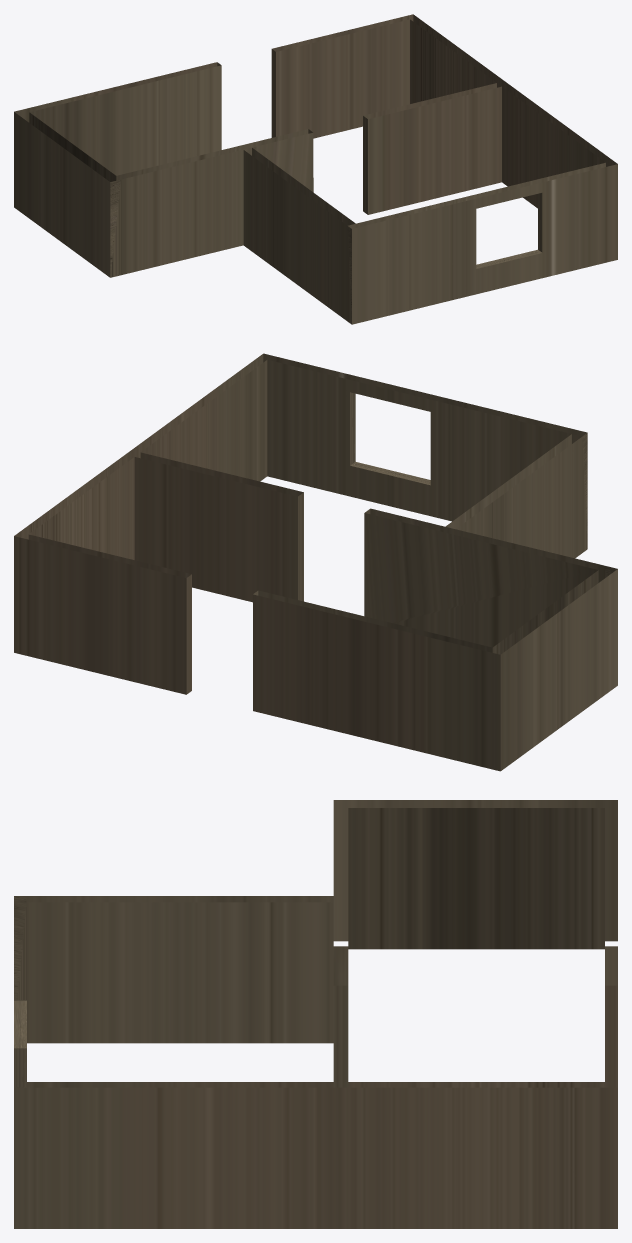
File: walls1.fbx
The picture shows the model from 3 angles, top to bottom: view 1: azimuth 30°, elevation 25°; view 2: azimuth 150°, elevation 25°; view 3: azimuth 270°, elevation 25°; orthographic projection. The views are drawn at different scales.
Visible parts, largest first — view 1: Cube, Cube.012, Cube.002, Cube.011, Cube.001, Cube.006, Cube.004, Cube.005, Cube.007, Cube.003, Cube.008; view 2: Cube, Cube.004, Cube.003, Cube.010, Cube.008, Cube.011, Cube.001, Cube.009, Cube.005, Cube.007, Cube.012, Cube.002; view 3: Cube, Cube.007, Cube.005, Cube.011, Cube.001.
Part boxes in pixels (box(x1,y1,x2,y2)): Cube: box(14, 14, 617, 324); Cube.012: box(368, 86, 501, 214); Cube.002: box(276, 19, 409, 138); Cube.011: box(502, 87, 605, 208); Cube.001: box(410, 19, 496, 103); Cube.006: box(252, 133, 313, 192); Cube.004: box(116, 129, 308, 180); Cube.005: box(29, 112, 116, 181); Cube.007: box(252, 148, 355, 225); Cube.003: box(363, 83, 496, 119); Cube.008: box(356, 195, 471, 227); Cube: box(14, 353, 617, 771); Cube.004: box(364, 513, 597, 647); Cube.003: box(134, 457, 297, 602); Cube.010: box(267, 360, 349, 496); Cube.008: box(430, 399, 571, 521); Cube.011: box(141, 360, 267, 481); Cube.001: box(29, 457, 134, 559); Cube.009: box(350, 380, 430, 515); Cube.005: box(492, 570, 598, 654); Cube.007: box(445, 434, 571, 529); Cube.012: box(140, 452, 303, 496); Cube.002: box(28, 534, 191, 577); Cube: box(14, 800, 617, 1228); Cube.007: box(27, 902, 333, 1043); Cube.005: box(348, 808, 604, 949); Cube.011: box(27, 1082, 333, 1087); Cube.001: box(348, 1082, 604, 1087).
Bounding box in the file's own units: 2543 × 583 × 2258.
Materials: 1 (1 with a texture image).
